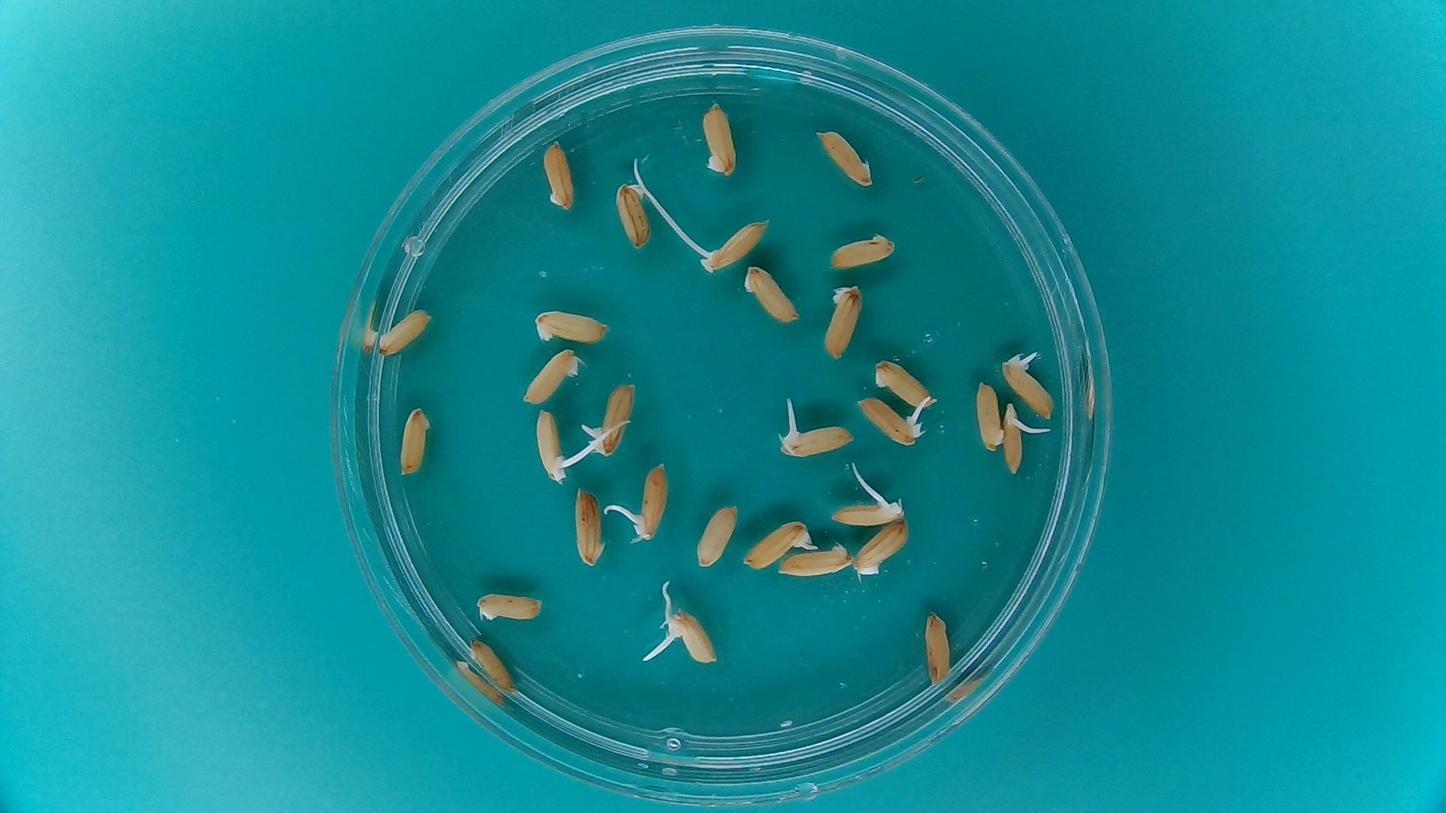no: (814, 125, 875, 190), (741, 263, 802, 327), (520, 346, 584, 406), (820, 280, 866, 361), (871, 356, 938, 410), (853, 519, 911, 579), (531, 305, 613, 346), (693, 499, 740, 570), (571, 485, 609, 571), (376, 303, 435, 358), (700, 98, 740, 179), (466, 635, 518, 696), (776, 540, 853, 579), (826, 229, 899, 270), (541, 137, 578, 215), (612, 183, 652, 250), (921, 607, 954, 687), (398, 403, 433, 477), (972, 376, 1004, 453), (473, 589, 545, 623)
yes: (741, 516, 815, 571), (854, 394, 926, 448), (700, 218, 770, 273), (659, 607, 721, 666), (999, 359, 1055, 420), (593, 379, 636, 455), (533, 404, 572, 486), (633, 458, 669, 543), (777, 423, 859, 460), (826, 491, 907, 527), (1001, 398, 1029, 473)
